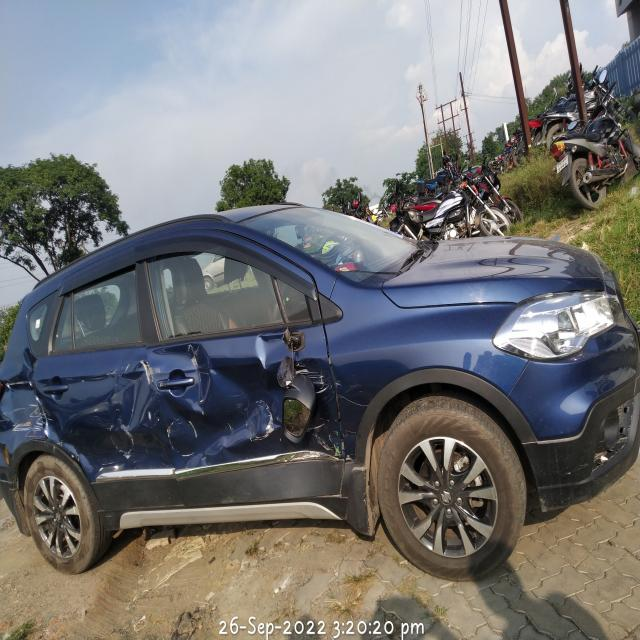damage: (154, 349, 272, 462), (39, 364, 156, 471), (274, 330, 316, 443), (10, 373, 47, 441), (316, 372, 337, 453), (340, 383, 362, 445)
